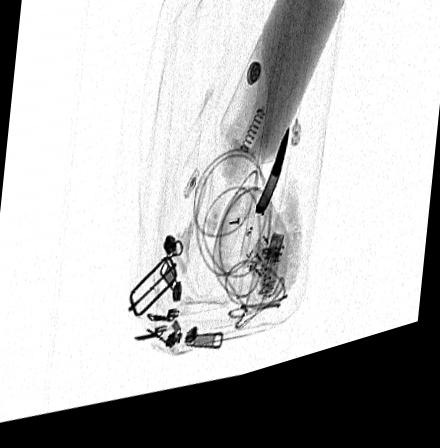Bullet: (251, 139, 290, 233)
